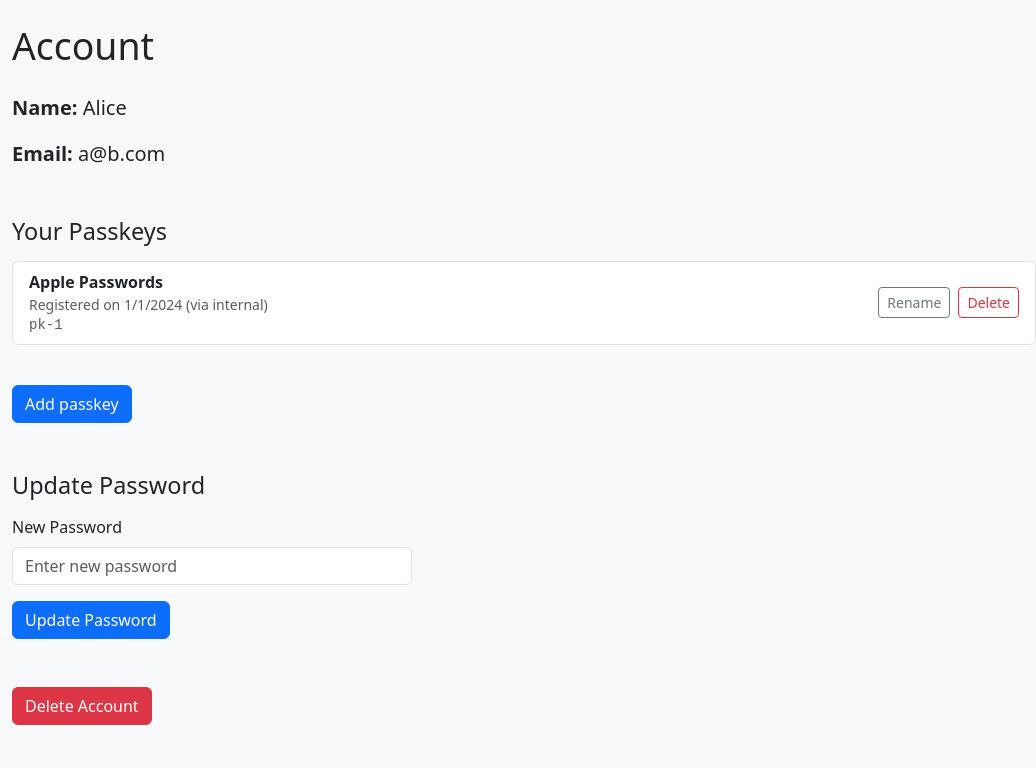
Scenario: AccountPage — rename passkey › shows an editable field pre-filled with the current name
Click the button with aria-label "Rename Apple Passwords" at (914, 303), box [878, 288, 950, 318]
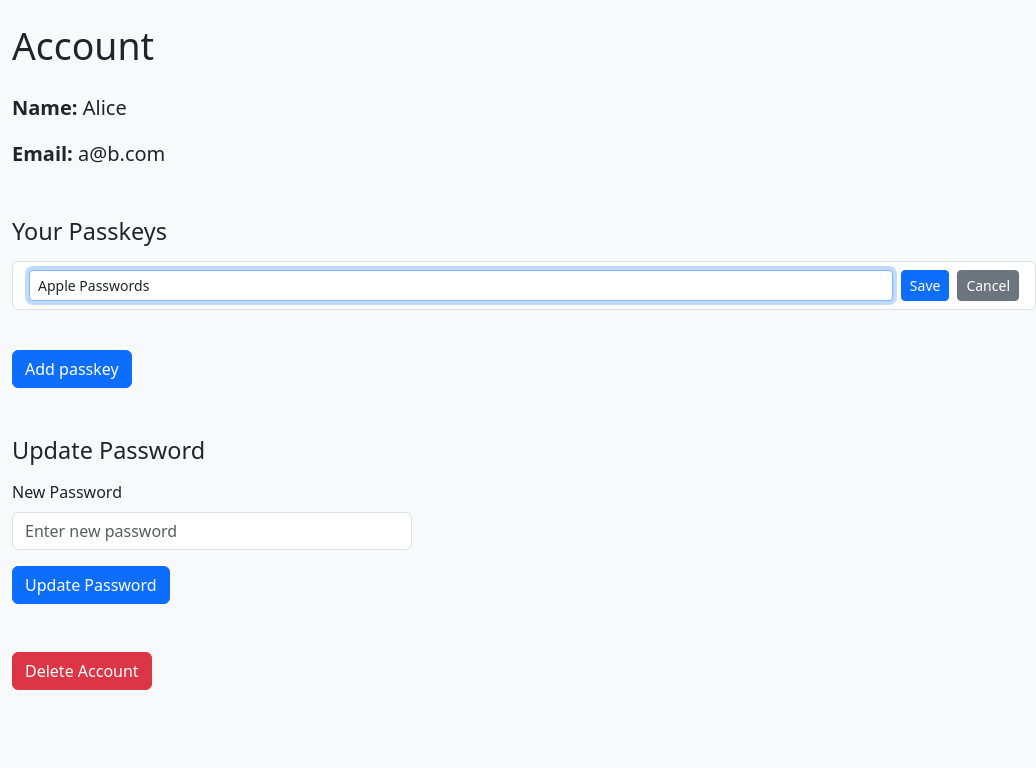
Result: the field named "Passkey name" holds "Apple Passwords" at [29, 270, 893, 301]
